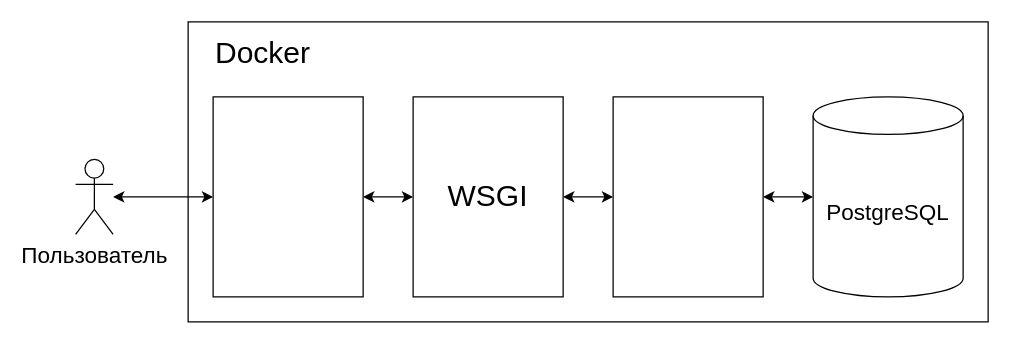
This 1010x344 diagram has some shape labels left out. The centre of each missing label's shape, as x and y in pixels:
"Django" belongs at (x=687, y=196).
"NGINX" belongs at (x=287, y=196).
